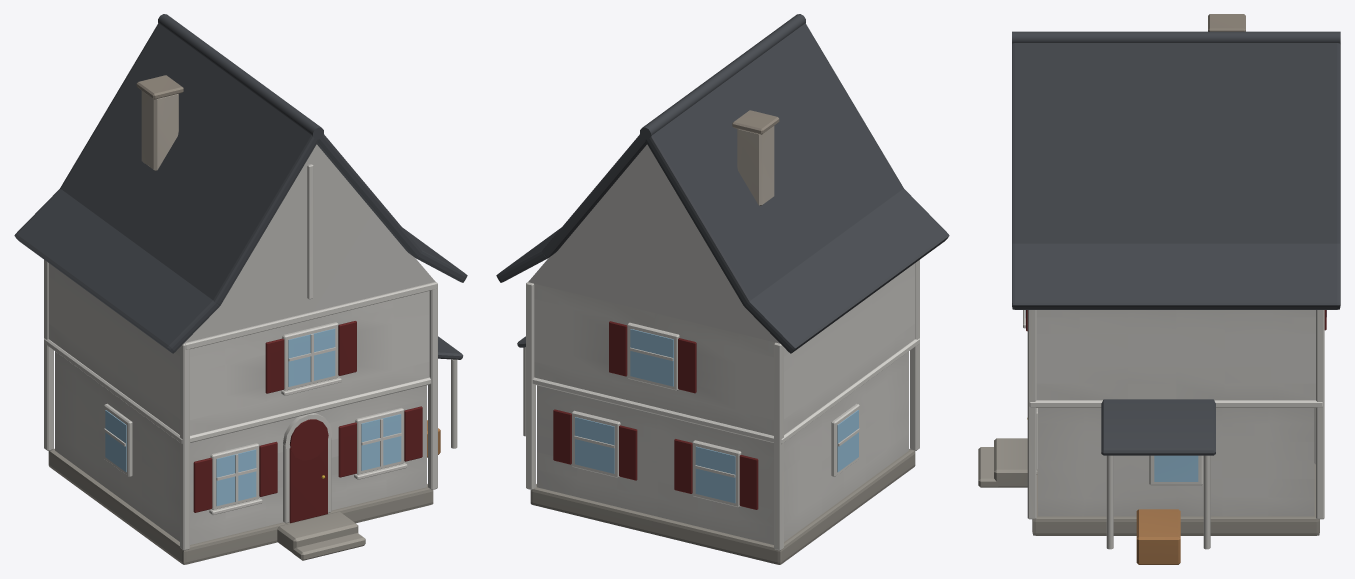
File: cottage-0.glb
3 views of the same model, side by side, from view 1: azimuth 30°, elevation 25°; view 2: azimuth 150°, elevation 25°; view 3: azimuth 270°, elevation 25° (orthographic). The views are drawn at different scales.
Parts seen in each view (by area): view 1: cottage-0; view 2: cottage-0; view 3: cottage-0.
Part boxes in pixels (x1,y1,x2,y2): cottage-0: (14, 14, 467, 564); cottage-0: (496, 14, 949, 564); cottage-0: (978, 14, 1340, 564).
Size of the model in its own units: 9.39 by 11.02 by 8.23.
